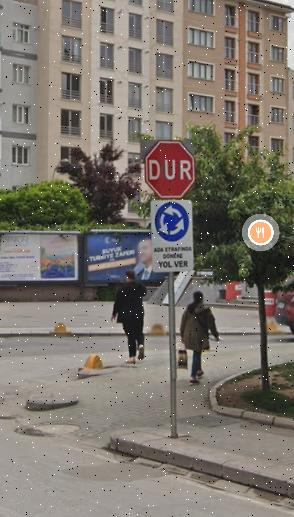crossroads: (155, 203, 189, 241)
stop: (144, 141, 196, 196)
